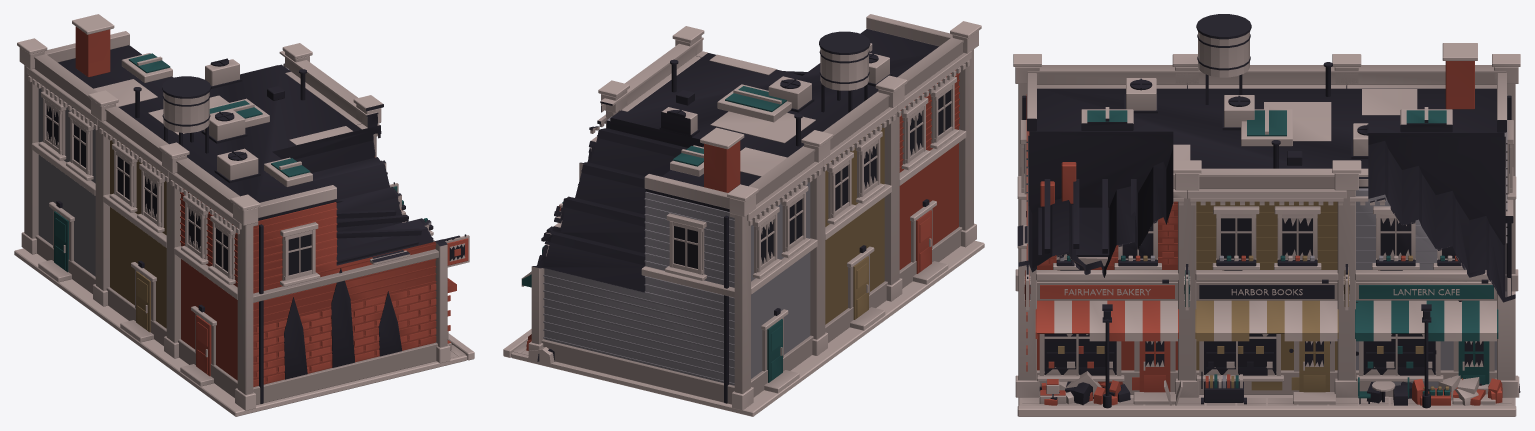
File: bld.storefront-row.w5.glb
3 renders of one model, left to right at view 1: azimuth 30°, elevation 25°; view 2: azimuth 150°, elevation 25°; view 3: azimuth 270°, elevation 25°, orthographic. The views are drawn at different scales.
Visible parts, largest first — view 1: body; view 2: body; view 3: body.
Part boxes in pixels (box(x1,y1,x2,y2)): body: box(14, 14, 474, 416); body: box(503, 14, 984, 416); body: box(1013, 14, 1520, 416).
Bounding box in the file's own units: 10.1 × 10.22 × 16.54.
